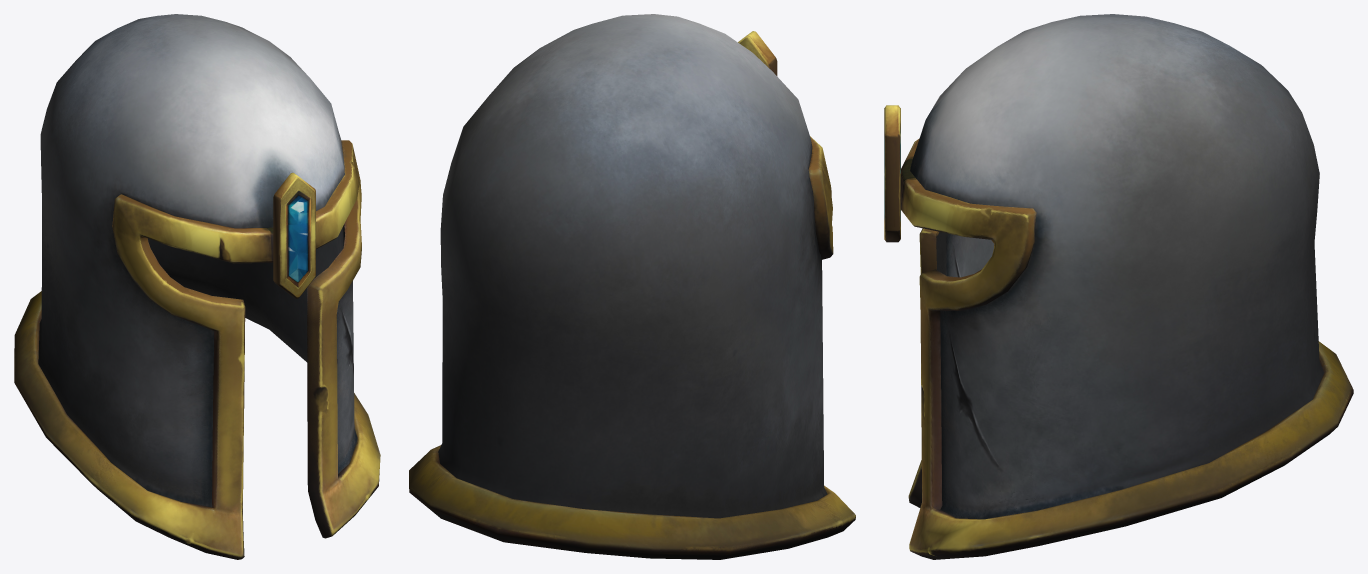
Rendered from sm_human_avian_helmet.gltf.
3 views of the same model, side by side, from view 1: azimuth 30°, elevation 25°; view 2: azimuth 150°, elevation 25°; view 3: azimuth 270°, elevation 25° (orthographic). The views are drawn at different scales.
Visible parts, largest first — view 1: sm_human_avian_helmet; view 2: sm_human_avian_helmet; view 3: sm_human_avian_helmet.
Boxes of the visible parts, x1,y1,x2,y2 form: sm_human_avian_helmet: (14,14,380,559); sm_human_avian_helmet: (409,14,855,559); sm_human_avian_helmet: (884,14,1353,559).
Bounding box in the file's own units: 23.44 × 35.25 × 29.62.
Materials: 1 (1 with a texture image).
